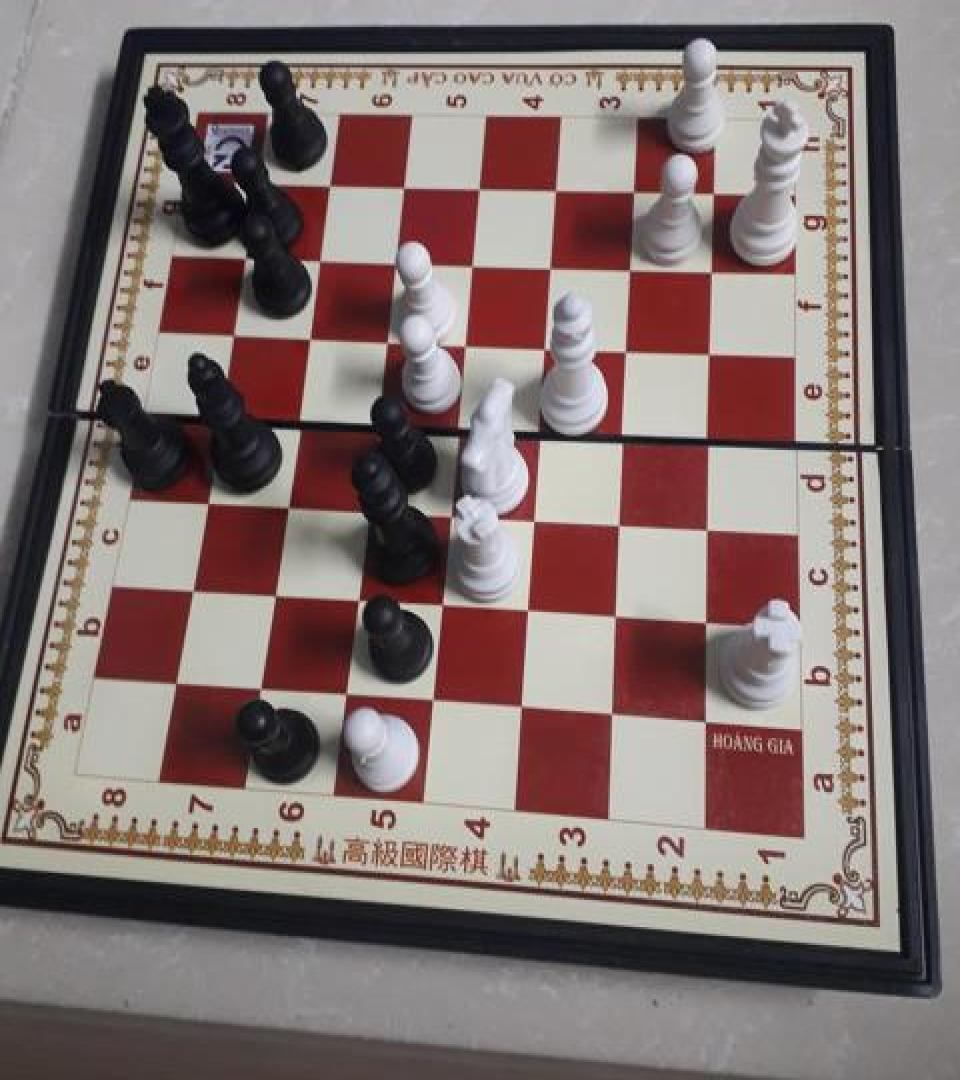xcorner: (163, 662, 193, 696), (248, 669, 278, 703), (334, 675, 364, 709), (421, 682, 451, 716), (601, 695, 631, 729), (693, 703, 723, 737), (178, 567, 208, 601), (261, 572, 291, 606), (345, 578, 375, 612), (430, 584, 460, 618), (516, 590, 546, 624), (604, 596, 634, 630), (693, 602, 723, 636), (193, 478, 223, 512), (355, 487, 385, 521), (438, 492, 468, 526), (522, 497, 552, 531), (607, 502, 637, 536), (694, 506, 724, 540), (207, 392, 237, 426), (285, 396, 315, 430), (365, 400, 395, 434), (446, 404, 476, 438), (528, 408, 558, 442), (611, 413, 641, 447), (695, 417, 725, 451), (297, 315, 327, 349), (374, 318, 404, 352), (453, 322, 483, 356), (533, 325, 563, 359), (696, 332, 726, 366), (233, 235, 263, 269), (308, 237, 338, 271), (383, 240, 413, 274), (460, 243, 490, 277), (538, 245, 568, 279), (617, 248, 647, 282), (697, 251, 727, 285), (245, 162, 275, 196), (318, 164, 348, 198), (392, 166, 422, 200), (466, 168, 496, 202), (542, 170, 572, 204), (619, 172, 649, 206), (697, 174, 727, 208), (510, 689, 540, 722), (274, 483, 304, 516), (220, 312, 250, 345), (614, 329, 644, 362)
